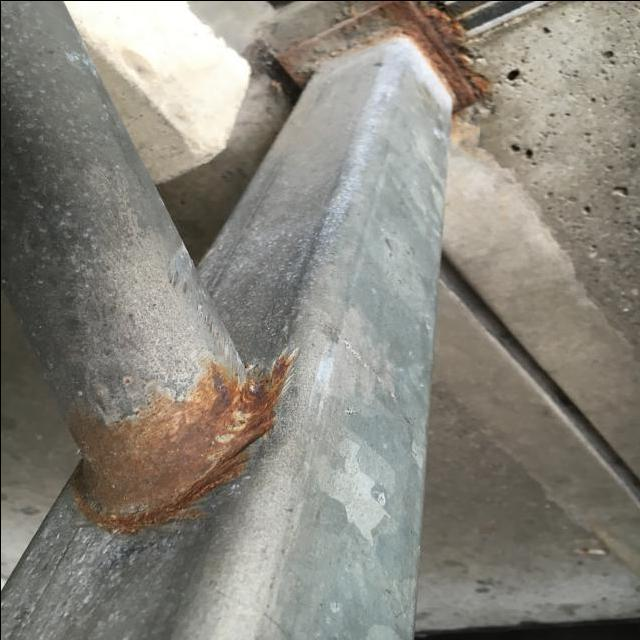Crevice Corrosion: (68, 198, 293, 532), (280, 1, 488, 119)
